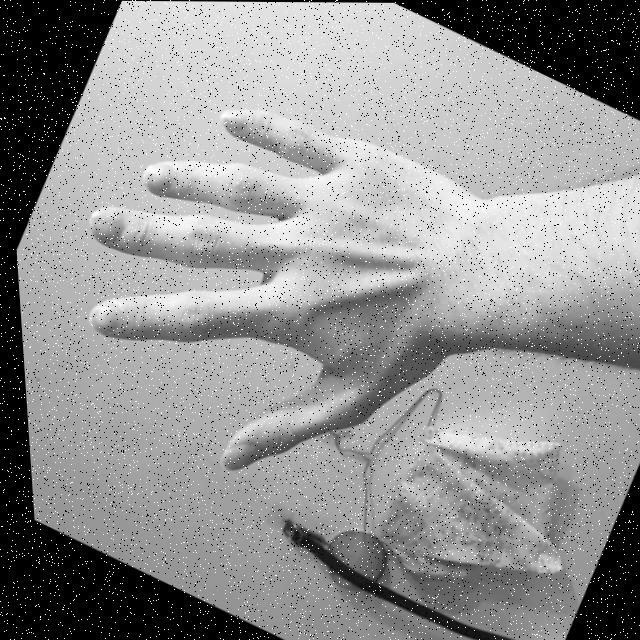hand: (2, 36, 506, 530)
